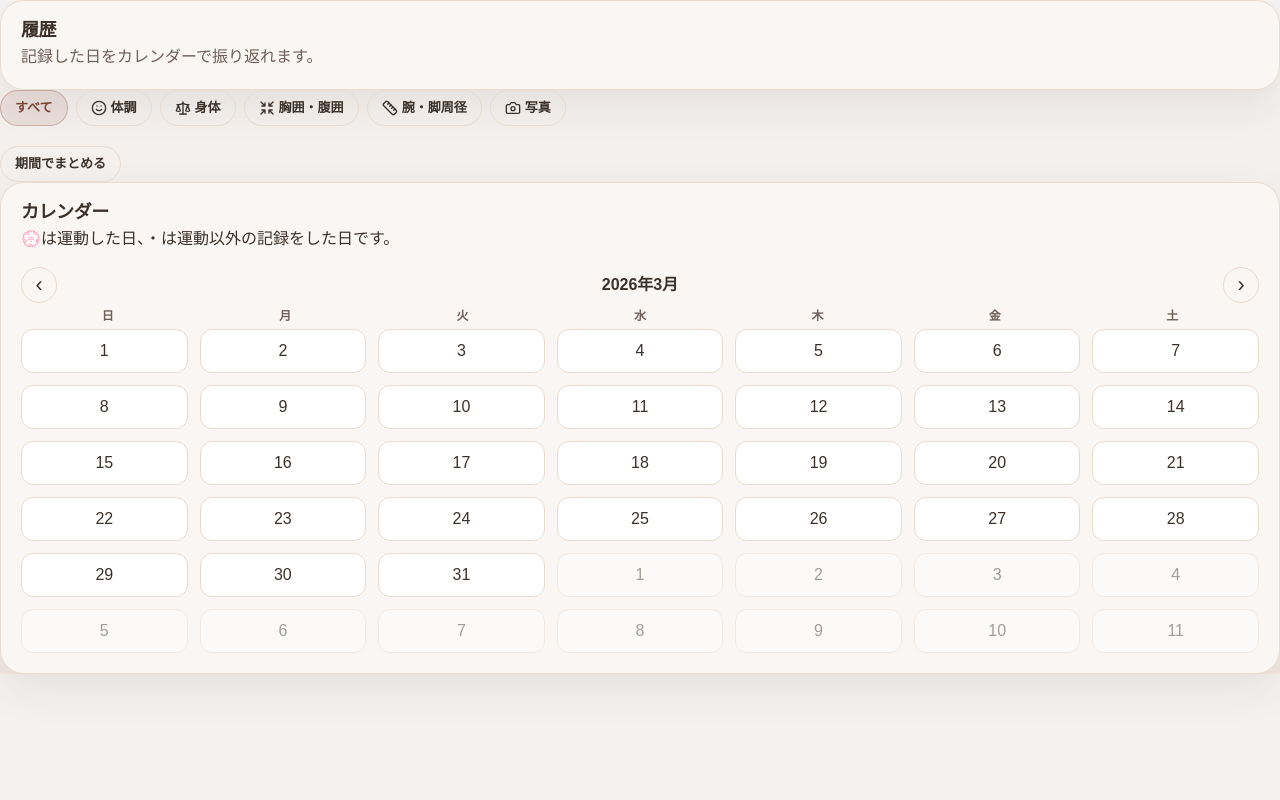
adds a wellness entry to a past day's timeline and refreshes the calendar marks
Step 1. Click the button named "3月10日" → [461, 407], box x1=378 y1=385 x2=545 y2=429
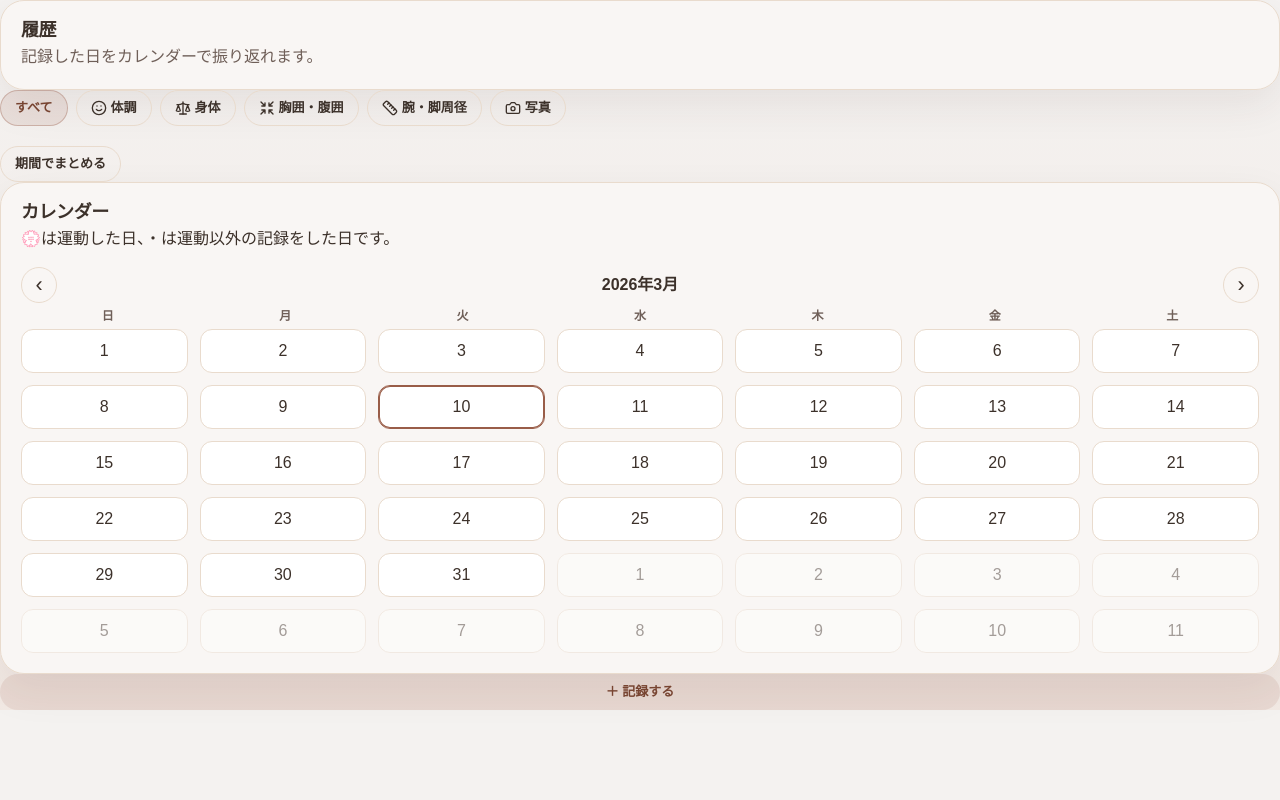
Step 2. Press Enter in the button "＋ 記録する", box x1=0 y1=674 x2=1279 y2=710
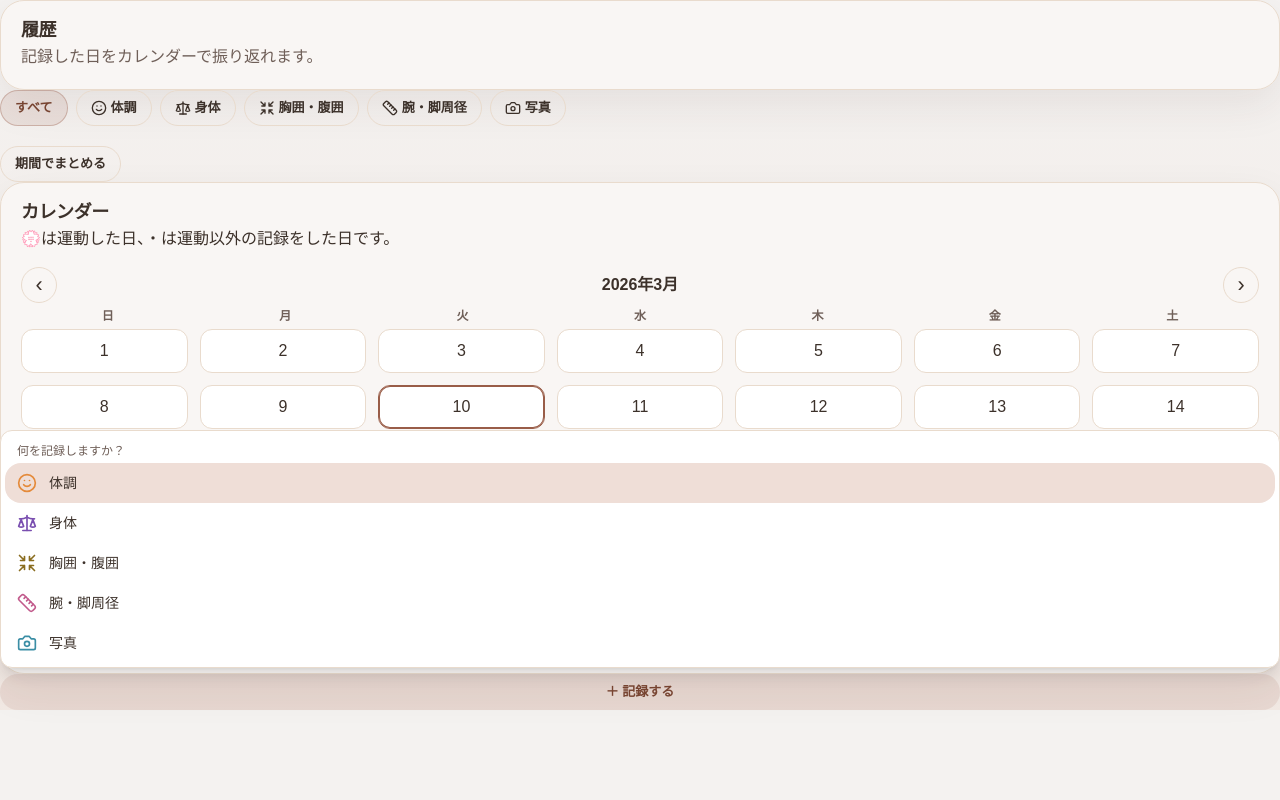
Step 3. Click the menu item "体調" → [27, 483], box x1=5 y1=463 x2=1275 y2=503
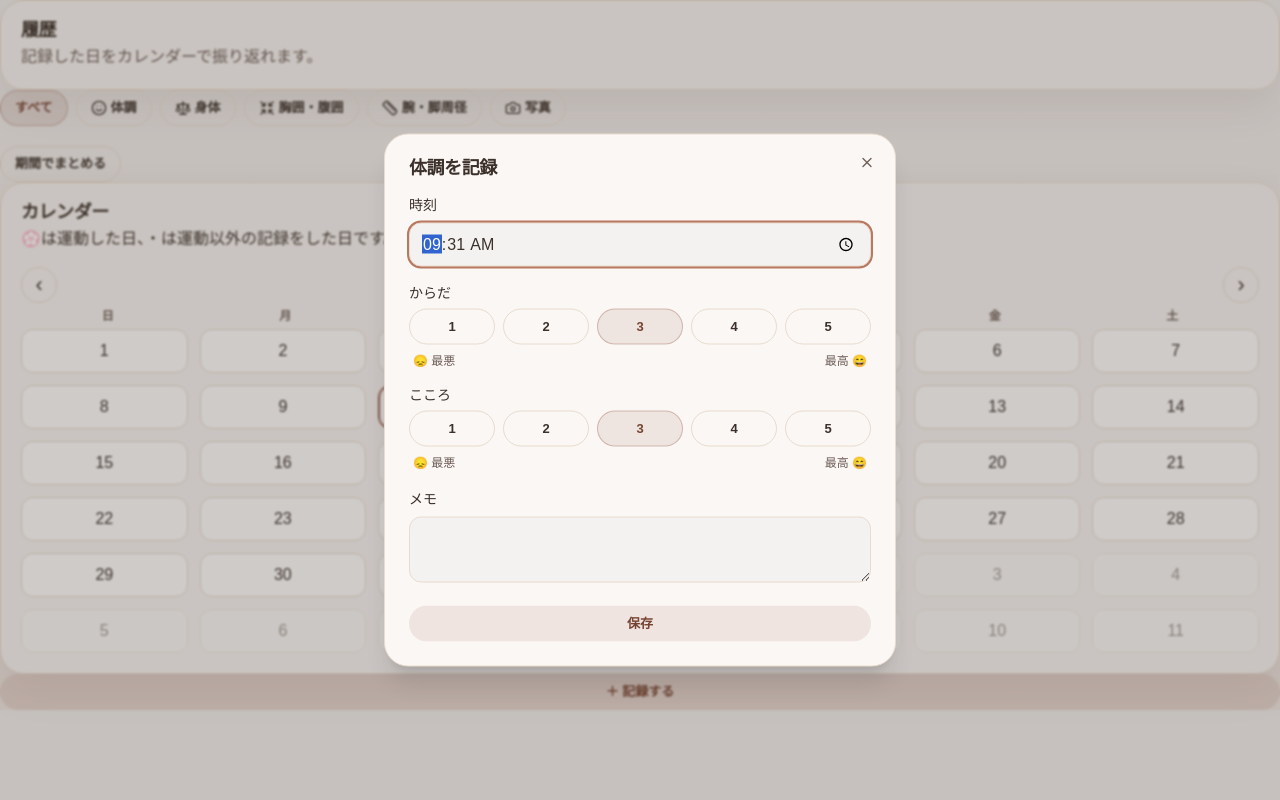
Step 4. Click the button "4" below "からだ" → [734, 326], box x1=691 y1=308 x2=777 y2=344
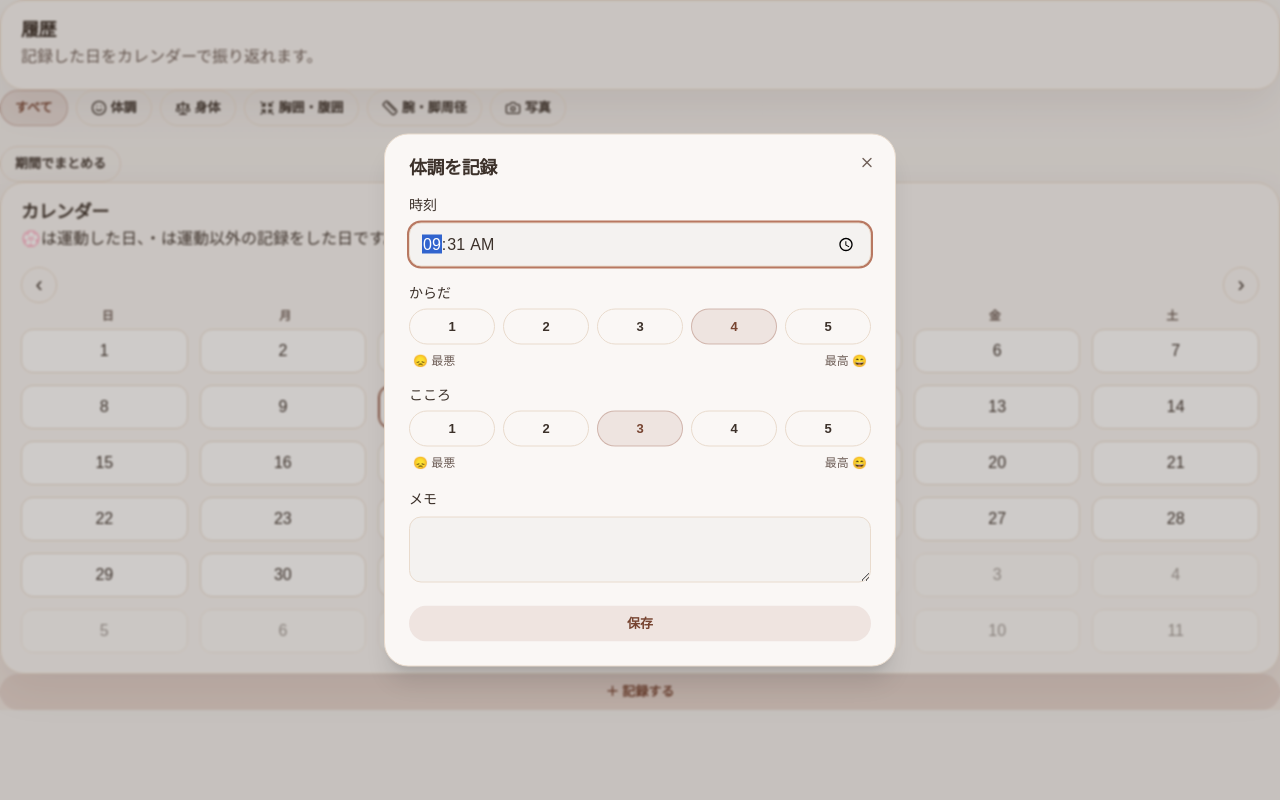
Step 5. Click the button "保存" → [640, 624], box x1=409 y1=606 x2=871 y2=642
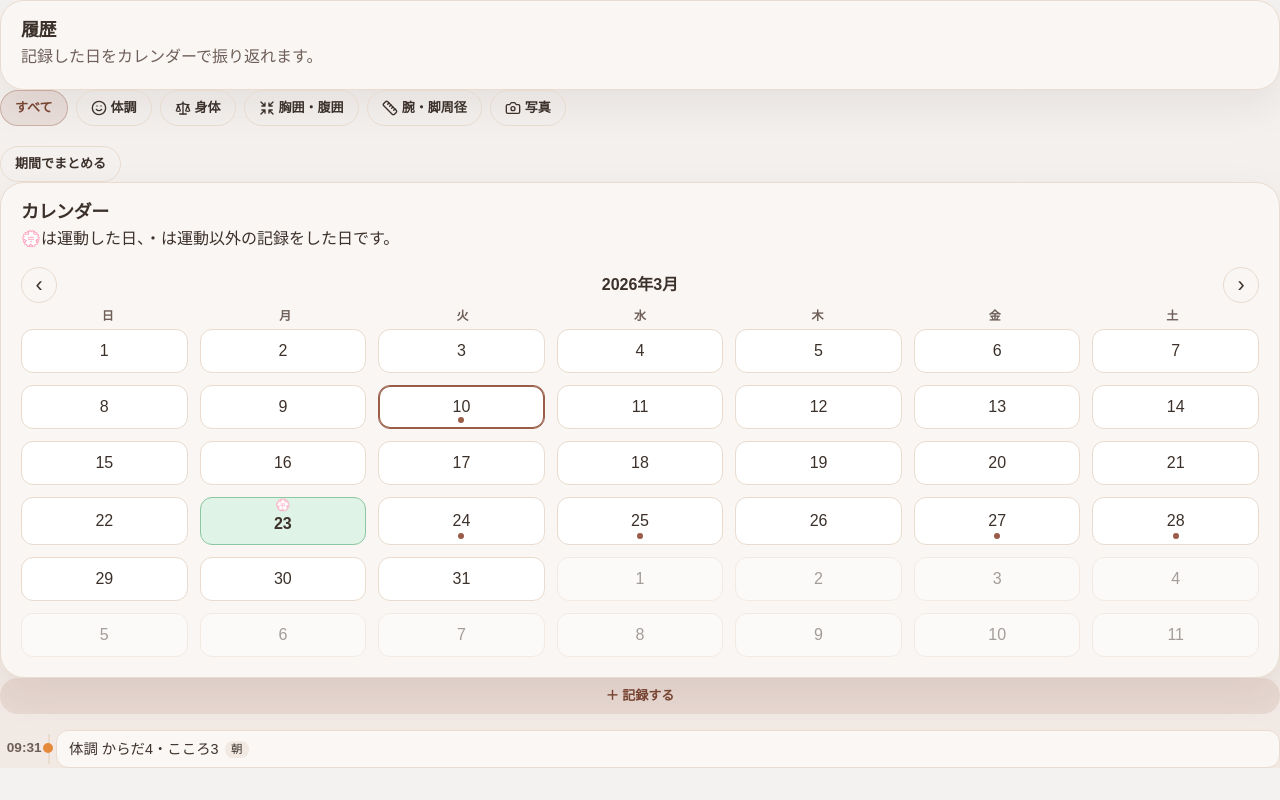
Expected: the dialog is gone
Expected: the button "体調 からだ4・こころ3 朝" is shown, x1=56 y1=730 x2=1279 y2=768
Expected: the 1st element with class "history-calendar__dot" is shown, x1=458 y1=417 x2=464 y2=423
